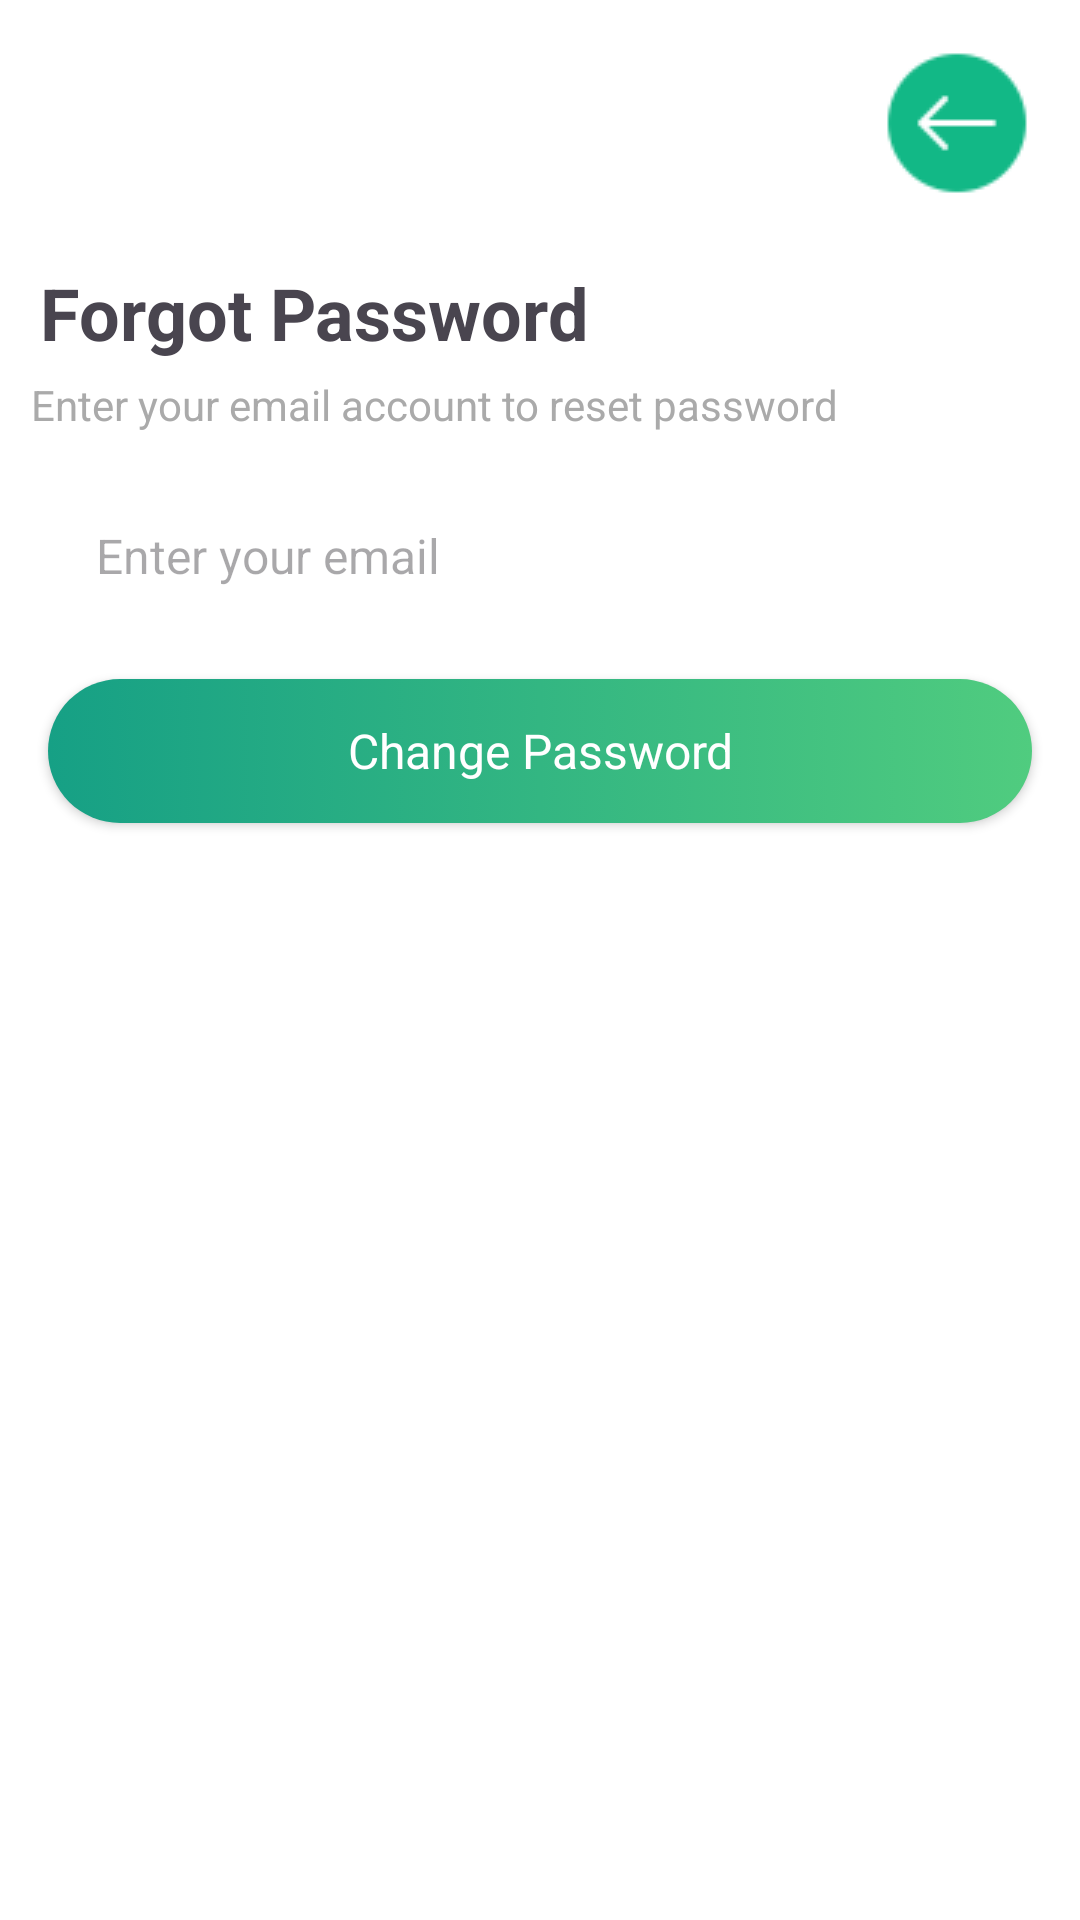

Named icons in this screenshot (1080 × 1920) and their centers, [x,y]:
Back Button: [957,123]
